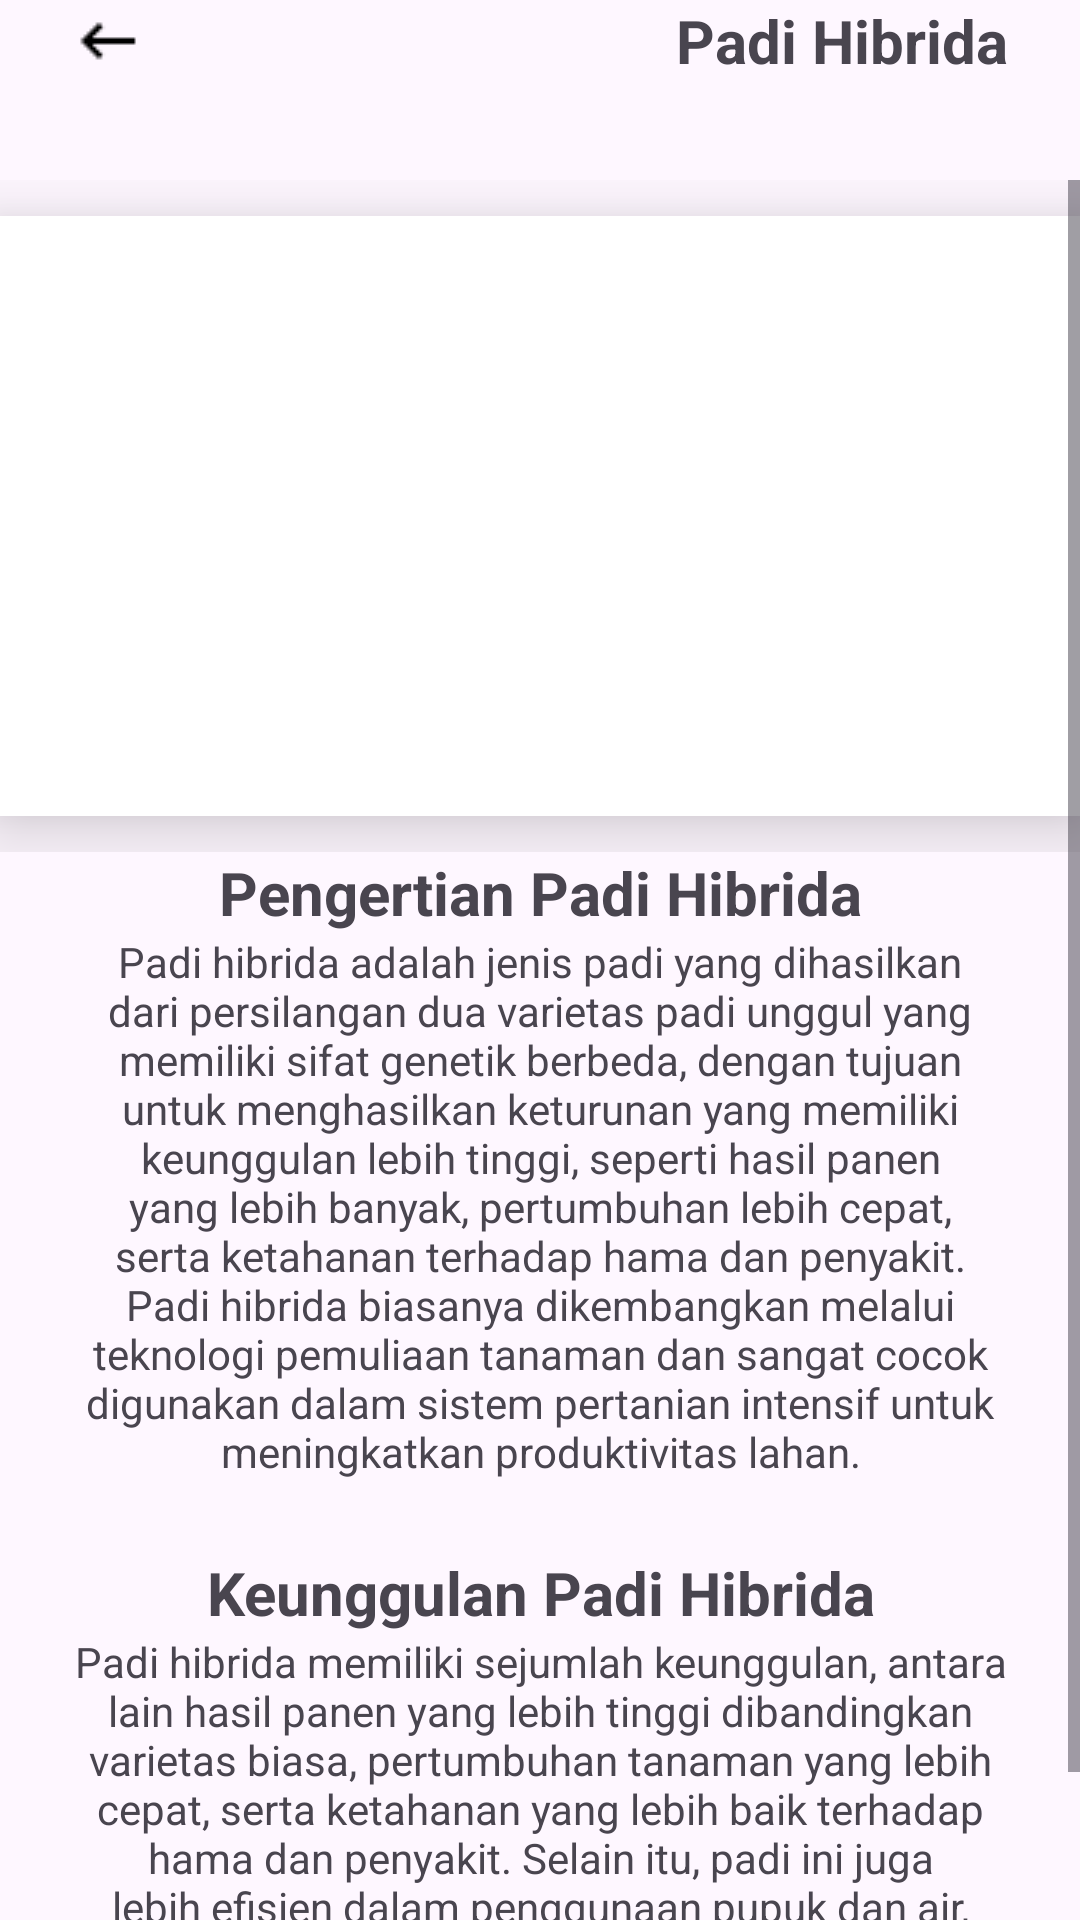

Where icons sit on this 1080x1920 app screen, as bbox=(x1, y1, x2, y2):
keyboard backspace: bbox=(80, 22, 136, 60)
